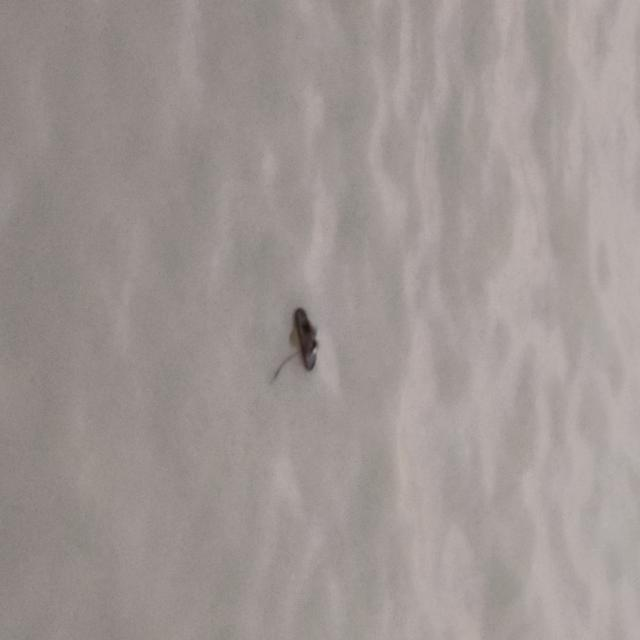Rubber: (292, 304, 323, 378)
